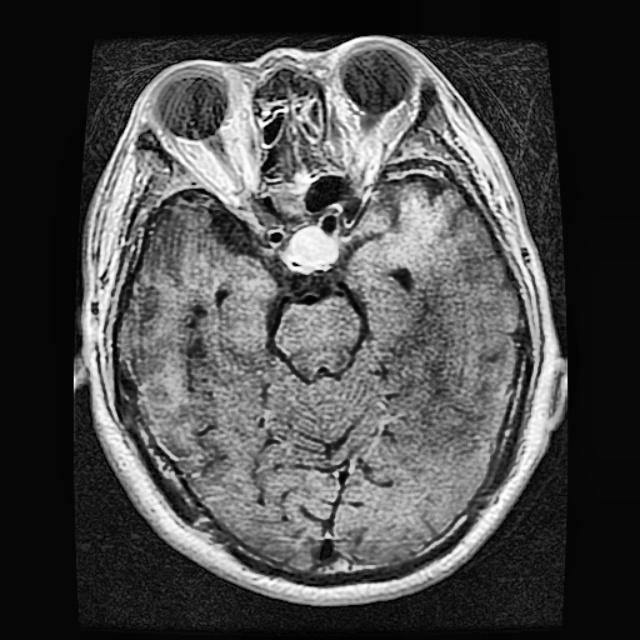Pituitary: (289, 225, 334, 262)
